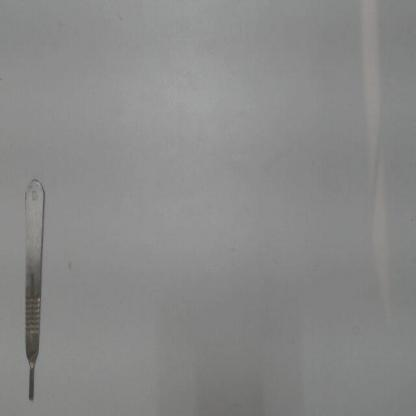No.3 BP Handle: (19, 175, 51, 407)
